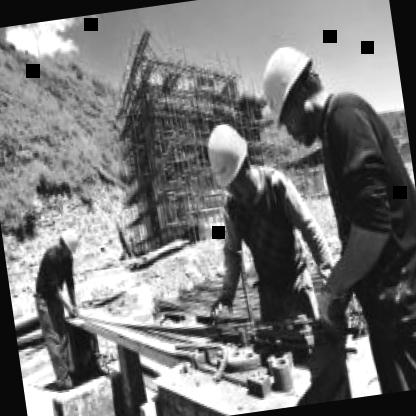helmet: (244, 29, 334, 150), (198, 113, 258, 197), (57, 224, 86, 260)
